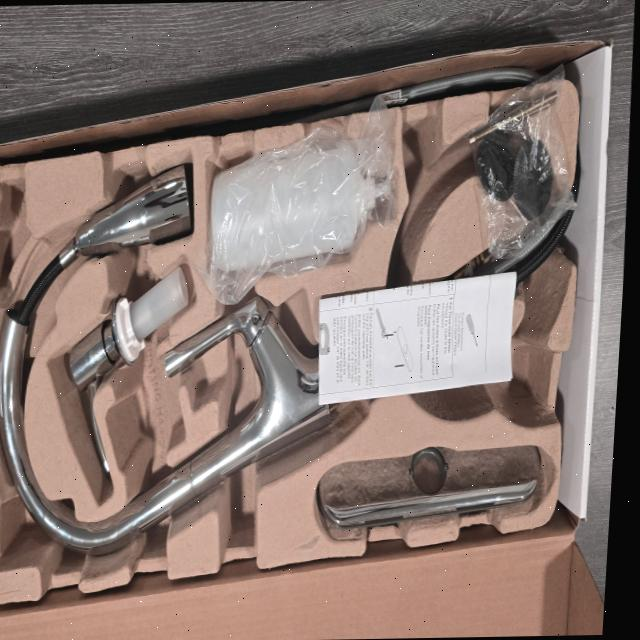1o: (0, 168, 567, 553)
2: (66, 269, 190, 475)
3: (208, 136, 388, 266)
4: (319, 445, 539, 526)
5m: (480, 335, 537, 415)
6m: (392, 127, 455, 268)
7: (466, 68, 575, 274)
8: (315, 271, 518, 404)
